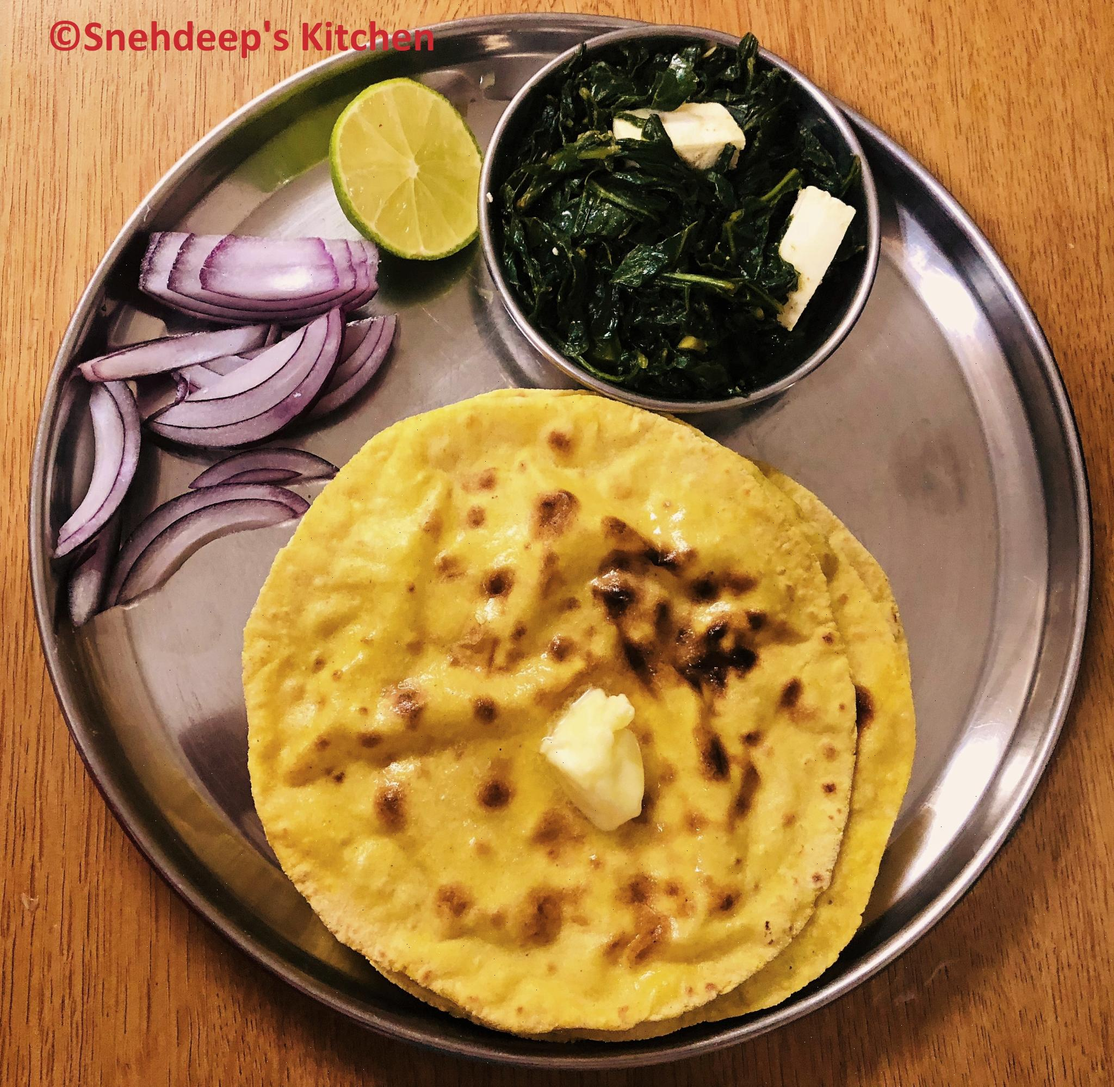saag: (503, 35, 865, 398)
